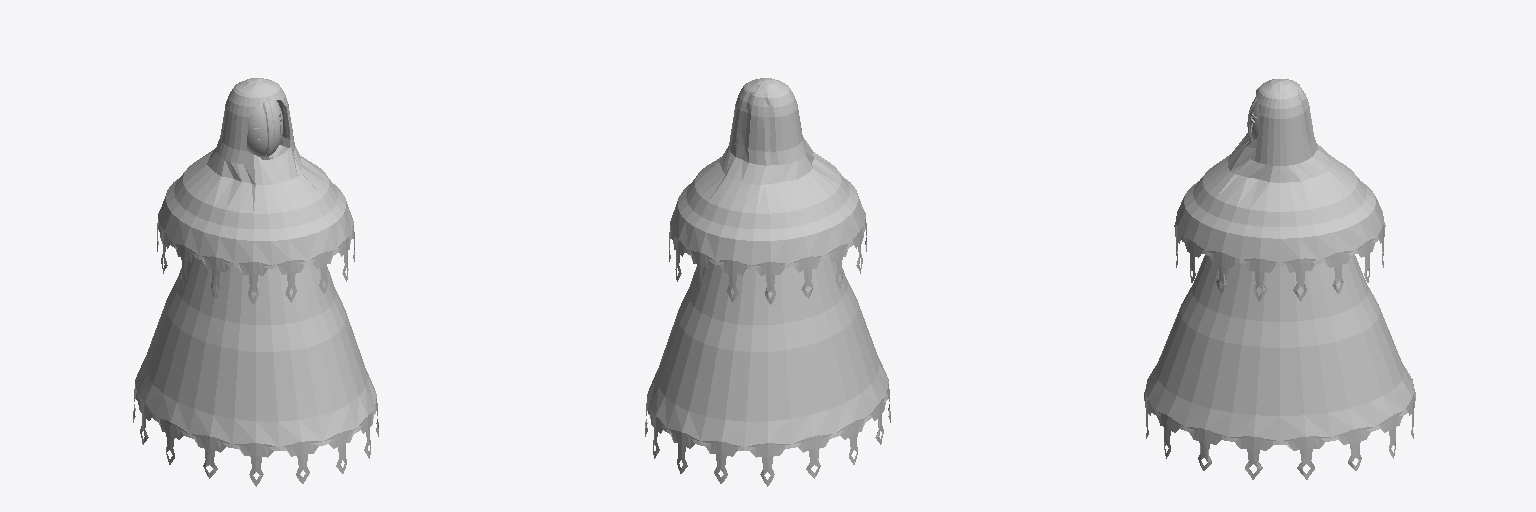
File: mother_cloak.obj
3 views of the same model, side by side, from view 1: azimuth 30°, elevation 25°; view 2: azimuth 150°, elevation 25°; view 3: azimuth 270°, elevation 25° (orthographic).
Visible parts, largest first — view 1: Cylinder.001_Cylinder.002, Sphere_Sphere.001; view 2: Cylinder.001_Cylinder.002; view 3: Cylinder.001_Cylinder.002.
Boxes of the visible parts, x1,y1,x2,y2 form: Cylinder.001_Cylinder.002: [133, 78, 378, 486]; Sphere_Sphere.001: [247, 100, 282, 157]; Cylinder.001_Cylinder.002: [645, 78, 890, 486]; Cylinder.001_Cylinder.002: [1144, 79, 1415, 479].
Size of the model in its own units: 3.25 by 5.39 by 3.79.